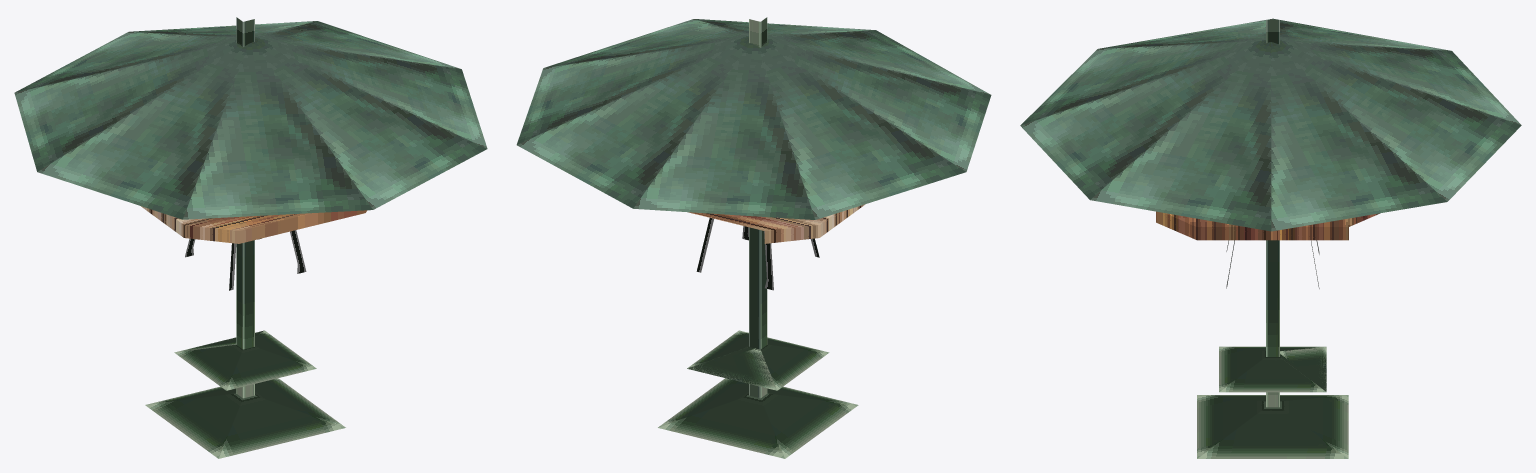
The model's file is stage-newy-p4-83.glb.
3 views of the same model, side by side, from view 1: azimuth 30°, elevation 25°; view 2: azimuth 150°, elevation 25°; view 3: azimuth 270°, elevation 25° (orthographic). The views are drawn at different scales.
Bounding box in the file's own units: 5.56 × 4.99 × 5.53.
5 materials, 5 textured.
